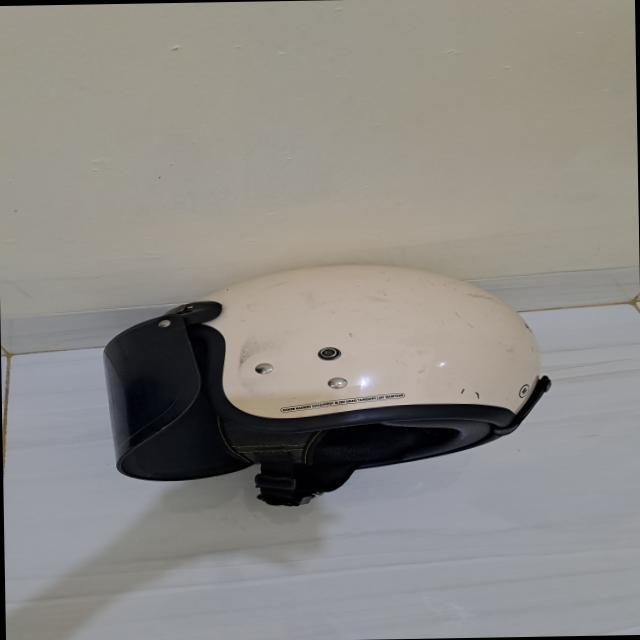Helm: (98, 251, 571, 532)
